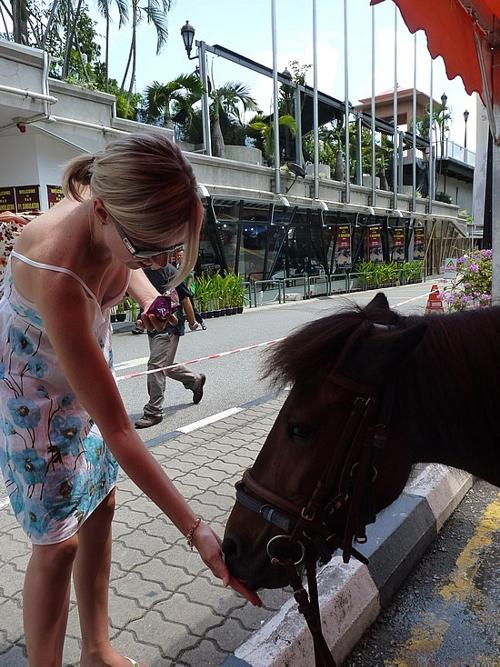person: (4, 138, 266, 667)
